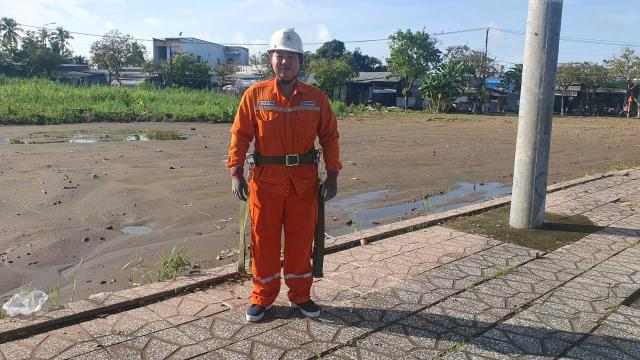gloves: (227, 163, 258, 202), (314, 167, 344, 207)
harness: (245, 142, 322, 171)
helmet: (262, 23, 312, 61)
shoes: (236, 282, 274, 325), (284, 286, 329, 320)
